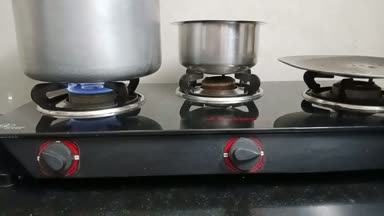flame_gas_off: (181, 66, 275, 174)
flame_gas_on: (24, 76, 147, 180)
